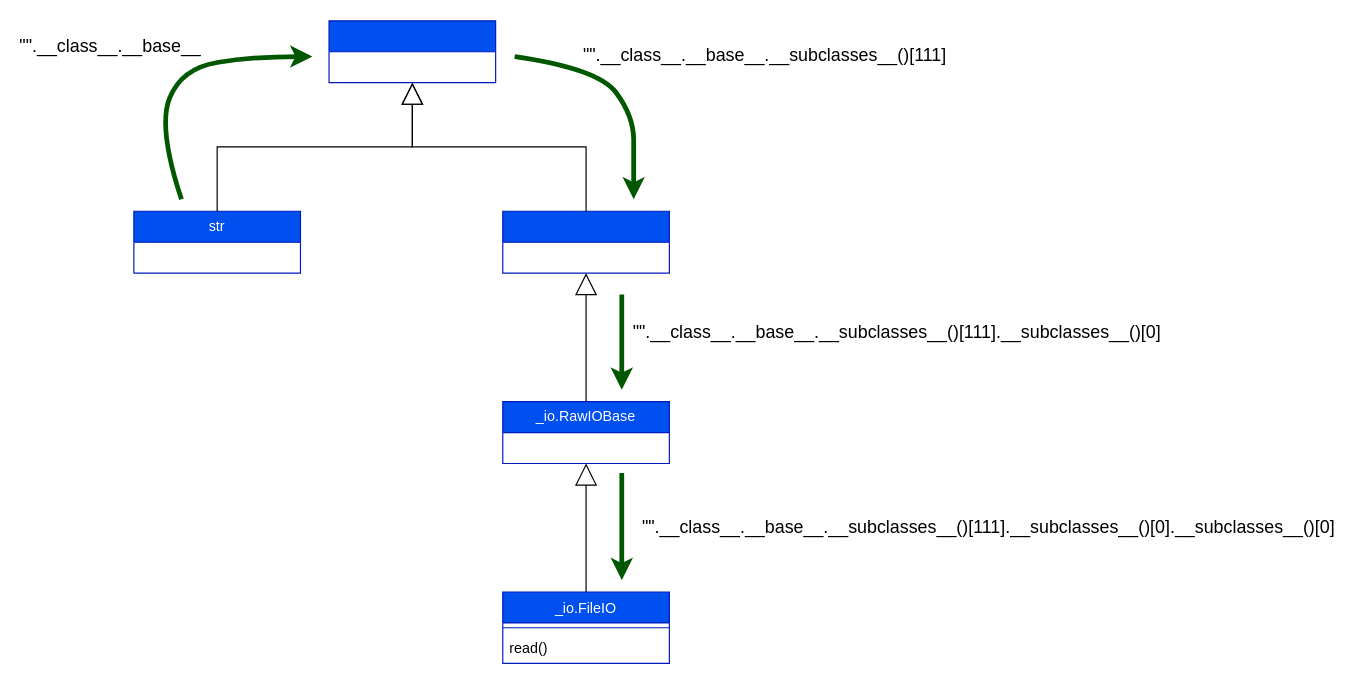
The diagram is 1355 pixels wide and 688 high, and some of its shapes have lost their labels. Here are the shapes that lost their labels. From the top down, the centre of each, then its label:
At (x=412, y=51): "object".
At (x=585, y=241): "_io._IOBase".
